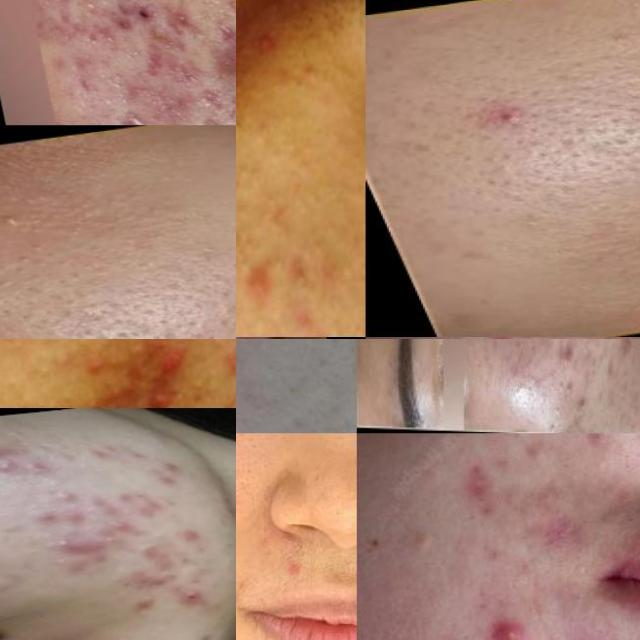acne_scars: (115, 531, 202, 575), (83, 483, 179, 522), (114, 563, 190, 592), (159, 1, 201, 36), (80, 444, 122, 463)
comedone: (0, 191, 55, 253), (141, 462, 199, 490), (31, 353, 68, 392), (236, 145, 257, 193), (199, 339, 234, 361), (0, 452, 30, 477), (94, 532, 132, 550), (44, 551, 80, 570), (549, 396, 563, 420), (220, 525, 236, 545)
papule: (459, 91, 550, 137), (138, 339, 192, 393), (459, 461, 499, 517), (238, 261, 270, 310), (22, 506, 73, 532), (37, 532, 90, 556), (174, 584, 214, 608), (124, 592, 164, 615), (20, 454, 50, 478), (56, 487, 84, 509), (101, 518, 140, 532), (581, 433, 614, 449), (0, 439, 21, 462), (560, 339, 579, 364), (439, 634, 466, 640)
pustule: (485, 615, 536, 640)
sebo-crystan-conglo: (208, 4, 236, 76)
